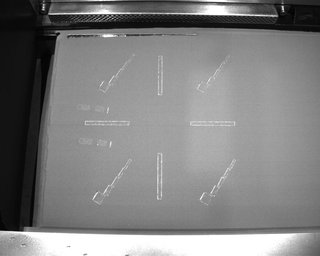defects: (97, 84, 101, 88), (202, 191, 205, 196), (199, 80, 202, 84), (199, 198, 202, 201), (96, 190, 100, 192)
